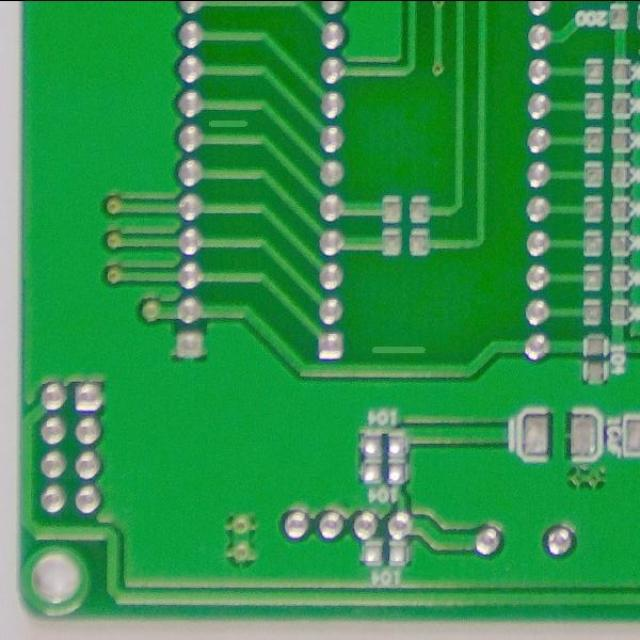spurious_copper: (366, 336, 431, 364), (203, 112, 250, 138)
